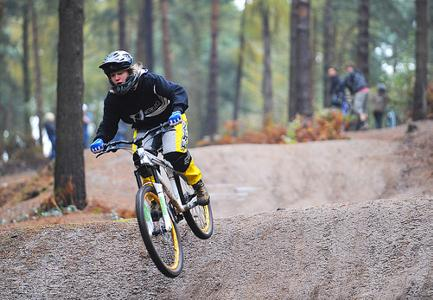person: (92, 51, 212, 238)
